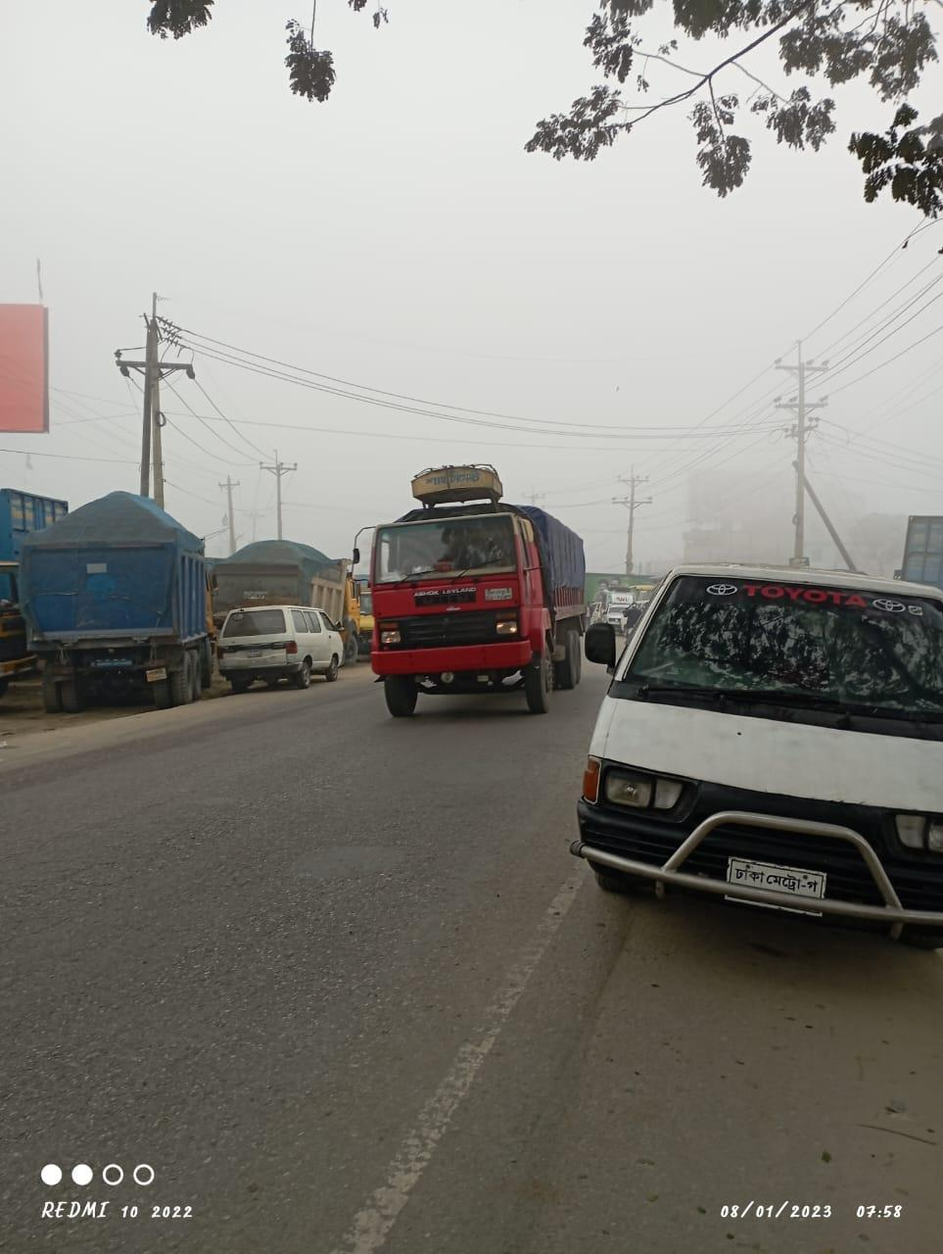Car: (595, 553, 941, 957), (215, 599, 350, 683)
Truck: (339, 459, 591, 718), (14, 499, 215, 712)
